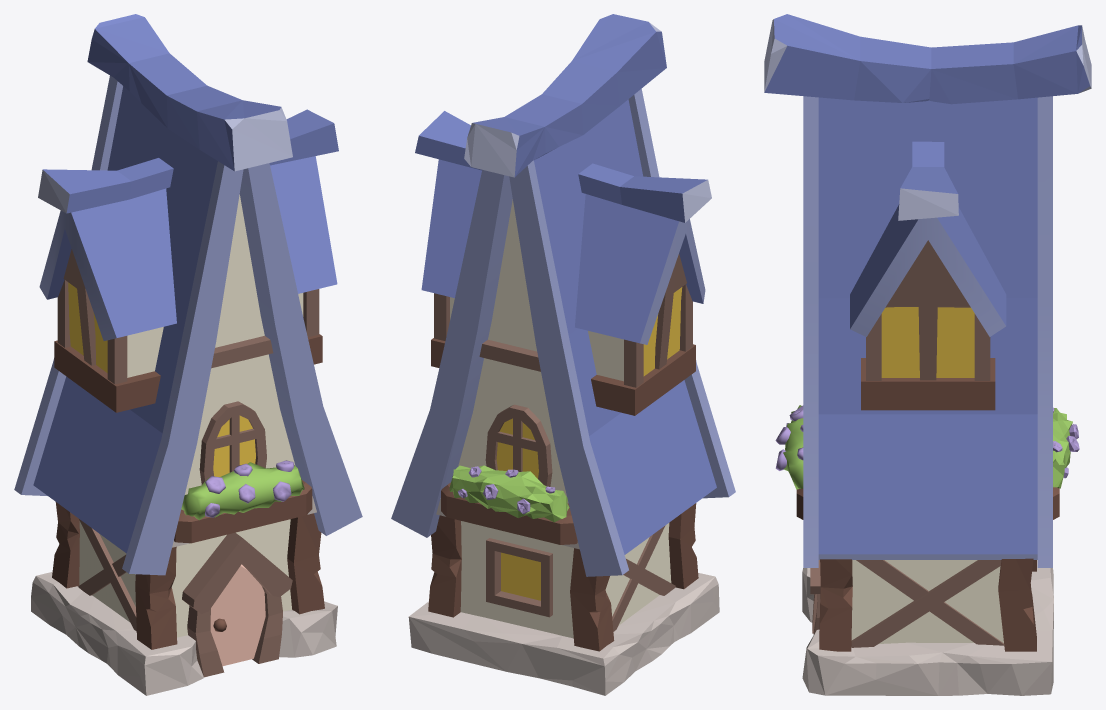
File: house_010.fbx
3 views of the same model, side by side, from view 1: azimuth 30°, elevation 25°; view 2: azimuth 150°, elevation 25°; view 3: azimuth 270°, elevation 25° (orthographic). The views are drawn at different scales.
Visible parts, largest first — view 1: house_010; view 2: house_010; view 3: house_010.
Part boxes in pixels (x1,y1,x2,y2): house_010: (14, 14, 362, 695); house_010: (391, 14, 735, 695); house_010: (764, 14, 1091, 695).
Size of the model in its own units: 455 by 434 by 901.
2 materials, 2 textured.
